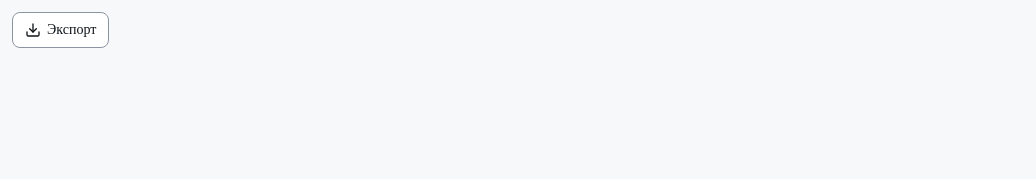
Test case: ExportMenu › закрывается по Escape и возвращает фокус на кнопку
This screenshot has width=1036, height=179.
Click the button with test id "export" at x=61, y=30, box [12,12,109,48]
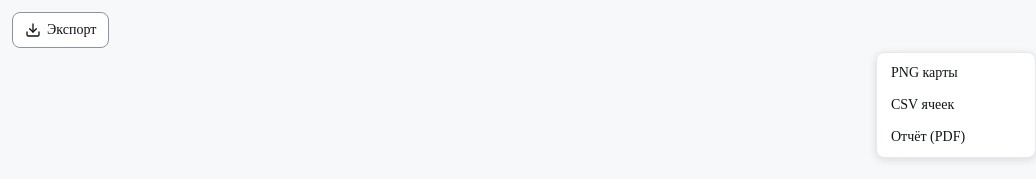
expect the menu is shown: met, box [876,52,1035,158]
Press Escape
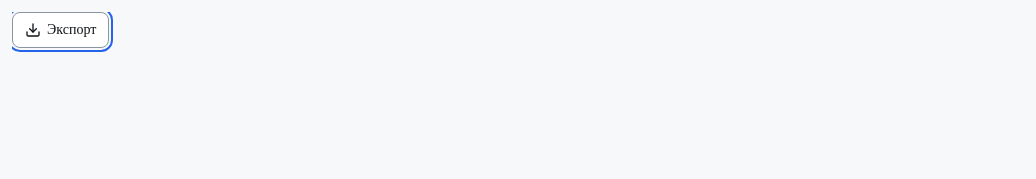
expect the menu is gone: met
